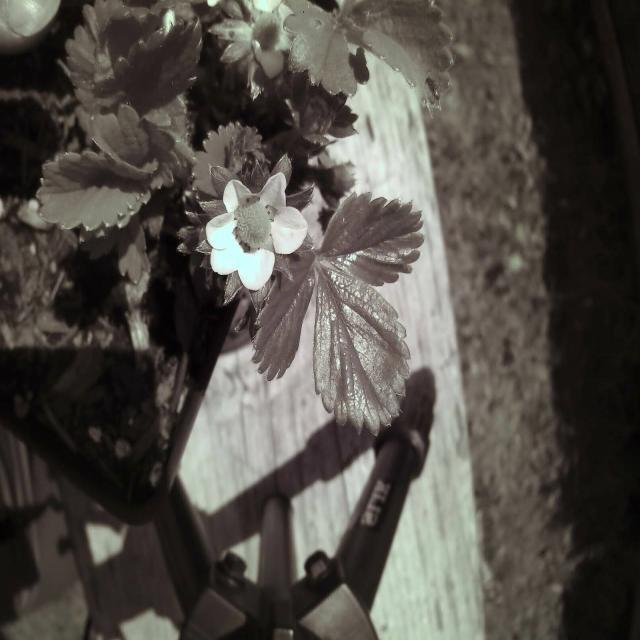flower: (208, 166, 312, 294)
